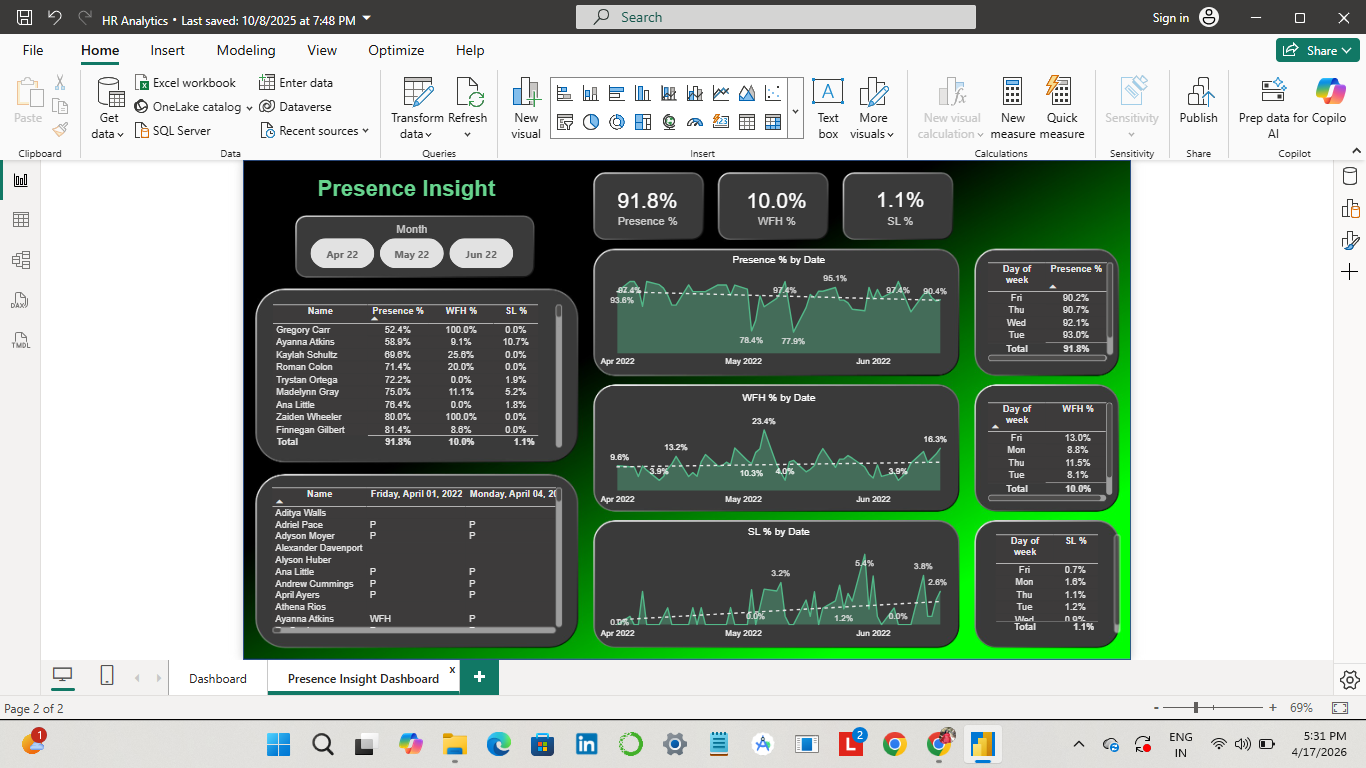

Layout of this report page (visuals, bound fields, positions):
{"tool":"powerbi","page":{"name":"Presence Insight Dashboard","canvas":[1280,720],"ordinal":1},"visuals":[{"type":"advancedSlicerVisual","fields":{"Values":["Final Data.Month"]},"box":[92.5,90,302.5,70],"z":0},{"type":"card","fields":{"Values":["Measure Table.Presence %"]},"box":[523.3,27.9,119.8,76.7],"z":1000},{"type":"card","fields":{"Values":["Measure Table.WFH %"]},"box":[709.3,27.9,117.4,76.7],"z":2000},{"type":"card","fields":{"Values":["Measure Table.SL %"]},"box":[894.2,23.3,104.7,84.9],"z":3000},{"type":"textbox","title":"Presence Insight","box":[102.5,22.5,282.5,43.8],"z":4000},{"type":"tableEx","fields":{"Values":["Final Data.Name","Measure Table.Presence %","Measure Table.WFH %","Measure Table.SL %"]},"box":[37.2,203.5,426.7,216.3],"z":5000},{"type":"areaChart","fields":{"Y":["Measure Table.Presence %"],"Category":["Final Data.Date"]},"box":[513.8,135,515,165],"z":6000},{"type":"areaChart","fields":{"Y":["Measure Table.WFH %"],"Category":["Final Data.Date"]},"box":[513.8,333.8,515,165],"z":7000},{"type":"pivotTable","fields":{"Values":["Min(Final Data.Value)"],"Rows":["Final Data.Name"],"Columns":["Final Data.Date"]},"box":[37.2,466.3,426.7,219.8],"z":8000},{"type":"areaChart","fields":{"Category":["Final Data.Date"],"Y":["Measure Table.SL %"]},"box":[513.8,527.5,515,165],"z":9000},{"type":"tableEx","fields":{"Values":["Final Data.Day of week","Measure Table.Presence %"]},"box":[1067.4,143,190.7,152.3],"z":10000},{"type":"tableEx","fields":{"Values":["Final Data.Day of week","Measure Table.WFH %"]},"box":[1067,344.2,190,152],"z":11000},{"type":"tableEx","fields":{"Values":["Final Data.Day of week","Measure Table.SL %"]},"box":[1079.1,534.9,189.5,152.3],"z":12000}]}

Visuals, with their boxes on the page's 1280x720 design canvas (x1, y1, x2, y2). These are canvas units, not pixel positions in the 1366x768 screenshot, which may show the page scaled, cropped or inside an application window:
advancedSlicerVisual - Final Data.Month: (left=92, top=90, right=395, bottom=160)
card - Measure Table.Presence %: (left=523, top=28, right=643, bottom=105)
card - Measure Table.WFH %: (left=709, top=28, right=827, bottom=105)
card - Measure Table.SL %: (left=894, top=23, right=999, bottom=108)
"Presence Insight" textbox: (left=102, top=22, right=385, bottom=66)
tableEx - Final Data.Name x Measure Table.Presence %: (left=37, top=204, right=464, bottom=420)
areaChart - Measure Table.Presence % x Final Data.Date: (left=514, top=135, right=1029, bottom=300)
areaChart - Measure Table.WFH % x Final Data.Date: (left=514, top=334, right=1029, bottom=499)
pivotTable - Min(Final Data.Value) x Final Data.Name: (left=37, top=466, right=464, bottom=686)
areaChart - Final Data.Date x Measure Table.SL %: (left=514, top=528, right=1029, bottom=692)
tableEx - Final Data.Day of week x Measure Table.Presence %: (left=1067, top=143, right=1258, bottom=295)
tableEx - Final Data.Day of week x Measure Table.WFH %: (left=1067, top=344, right=1257, bottom=496)
tableEx - Final Data.Day of week x Measure Table.SL %: (left=1079, top=535, right=1269, bottom=687)
